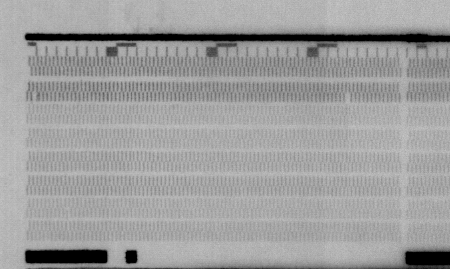Broken hole: (30, 91, 42, 104), (343, 92, 353, 104)
Oblique printing: (61, 208, 72, 220)
